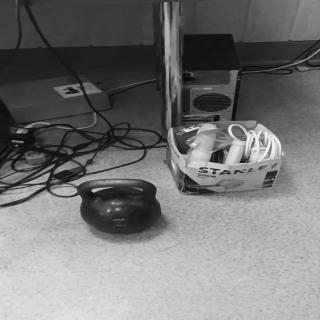kettlebell: (77, 179, 164, 235)
